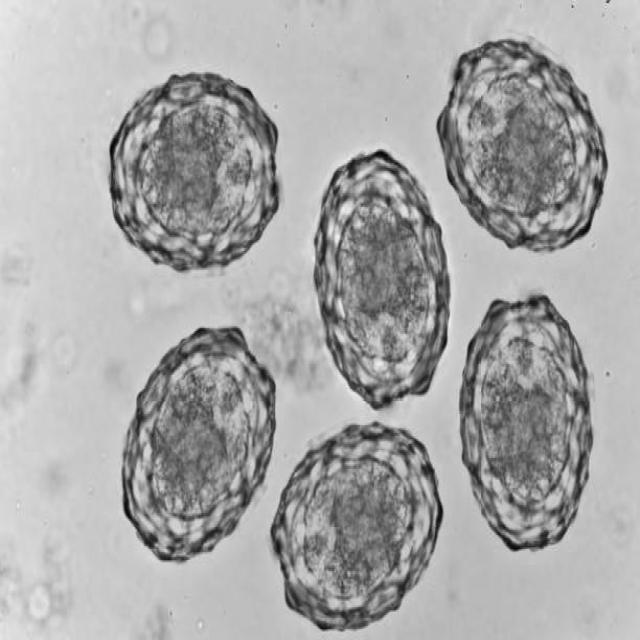Ascaris Lumbricoides: (109, 318, 276, 565), (267, 409, 447, 636), (434, 25, 604, 264), (304, 149, 454, 414), (106, 65, 288, 283), (456, 285, 599, 551)
